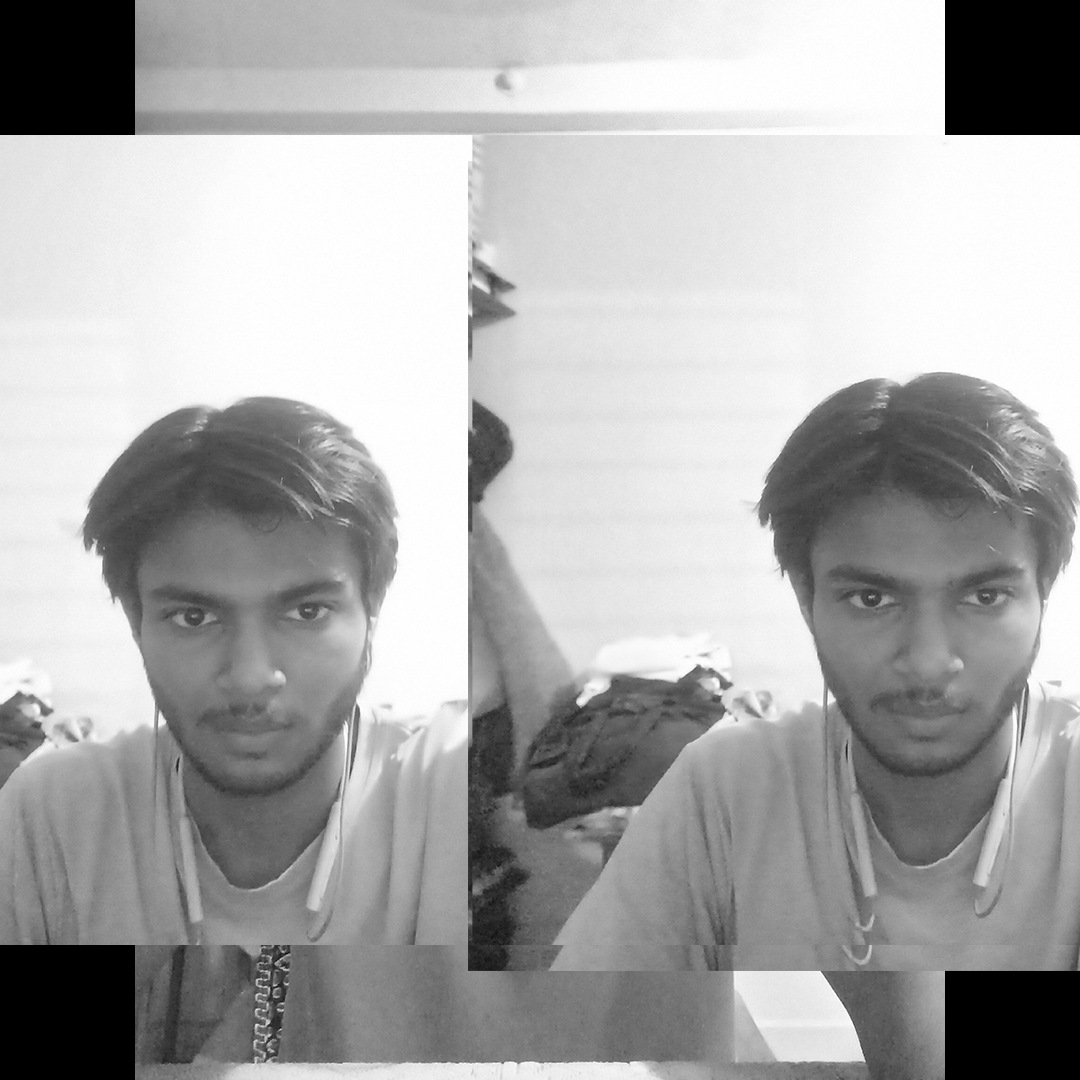Focused: (667, 407, 1080, 955), (44, 394, 418, 967)
